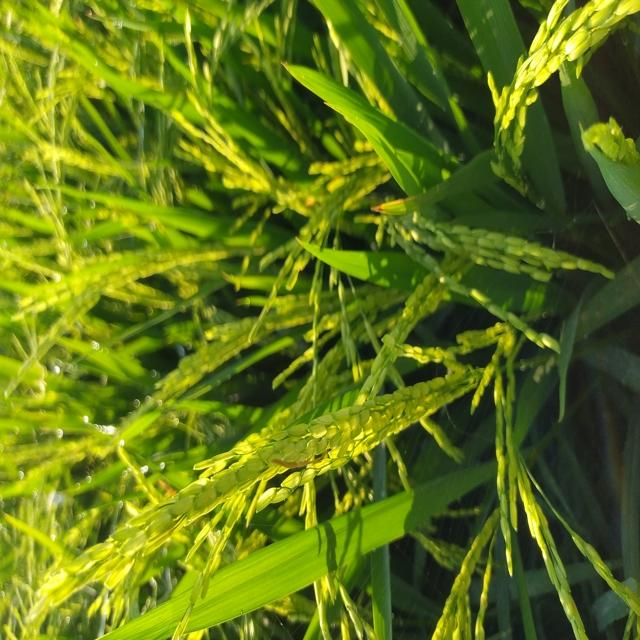Brown spot: (368, 190, 422, 225)
